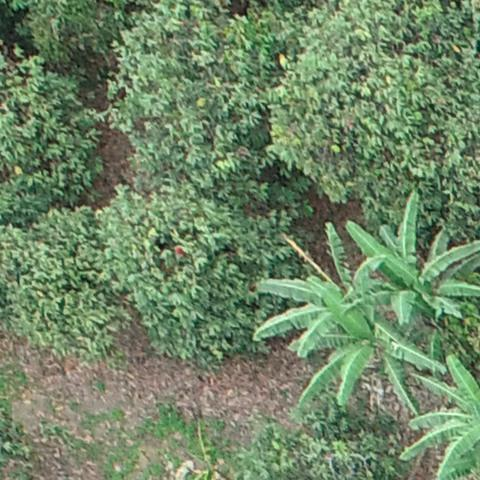Banana-plant: (249, 220, 410, 360), (284, 306, 450, 427), (346, 192, 480, 329), (396, 356, 480, 480)
